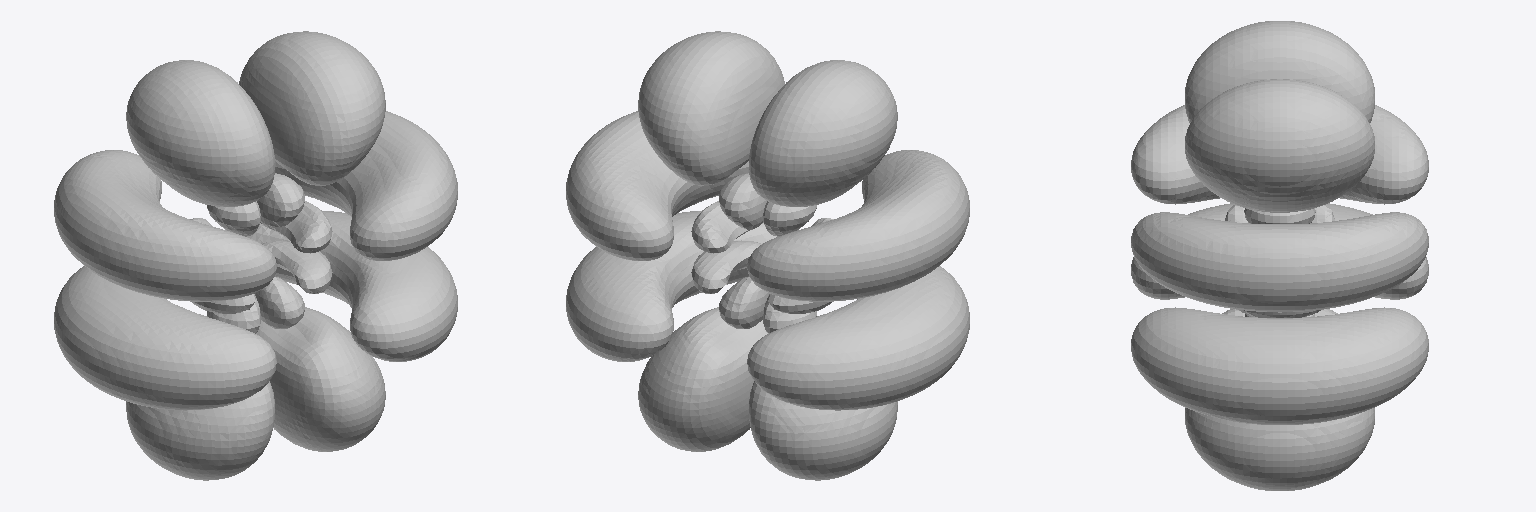
The model's file is orb_n=6_ l=4 _m=1.obj.
The picture shows the model from 3 angles: view 1: azimuth 30°, elevation 25°; view 2: azimuth 150°, elevation 25°; view 3: azimuth 270°, elevation 25°; orthographic projection.
Visible parts, largest first — view 1: orb_n=6__l=4__m=1; view 2: orb_n=6__l=4__m=1; view 3: orb_n=6__l=4__m=1.
Part boxes in pixels (x1,y1,x2,y2): orb_n=6__l=4__m=1: (54, 31, 457, 480); orb_n=6__l=4__m=1: (566, 31, 969, 480); orb_n=6__l=4__m=1: (1131, 21, 1428, 490).
Bounding box in the file's own units: 133 × 143 × 96.02.